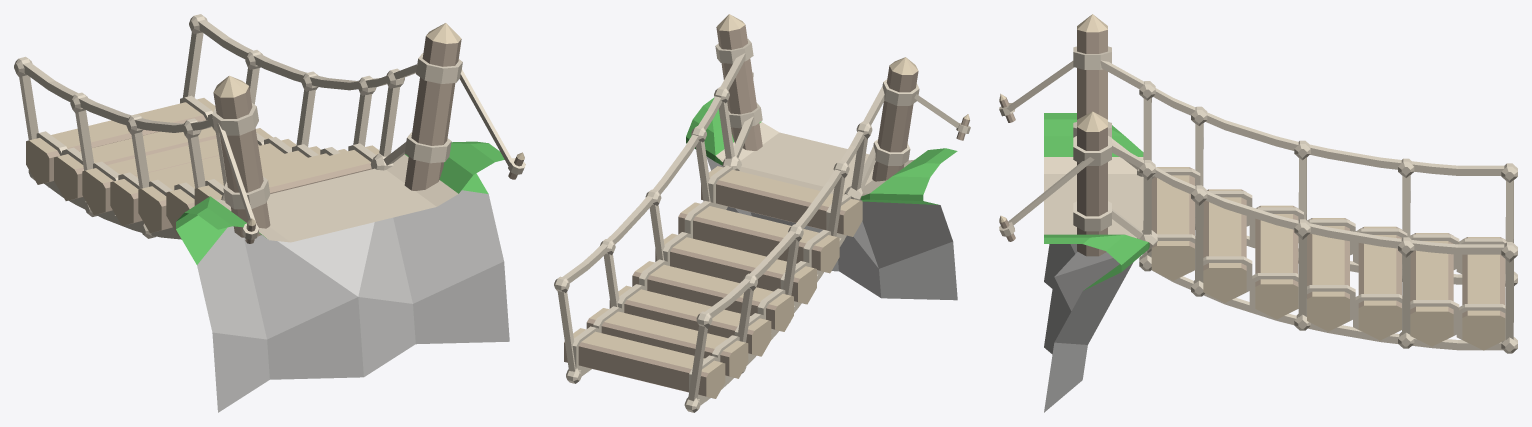
Rendered from Cliff_Prop_Bridge_Rope_End.glb.
3 views of the same model, side by side, from view 1: azimuth 30°, elevation 25°; view 2: azimuth 150°, elevation 25°; view 3: azimuth 270°, elevation 25° (orthographic). The views are drawn at different scales.
Visible parts, largest first — view 1: Cliff_Prop_Bridge_Rope_End; view 2: Cliff_Prop_Bridge_Rope_End; view 3: Cliff_Prop_Bridge_Rope_End.
Boxes of the visible parts, x1,y1,x2,y2 form: Cliff_Prop_Bridge_Rope_End: [14, 14, 525, 412]; Cliff_Prop_Bridge_Rope_End: [554, 14, 970, 412]; Cliff_Prop_Bridge_Rope_End: [999, 14, 1517, 412].
Size of the model in its own units: 1.06 by 1.07 by 1.77.
